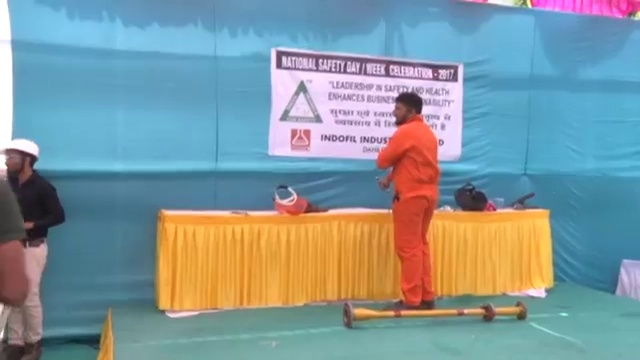helmet: (1, 136, 40, 161)
helmet_off: (391, 92, 424, 125)
helmet_on: (1, 136, 39, 177)
person: (1, 137, 63, 360), (377, 92, 440, 311)
